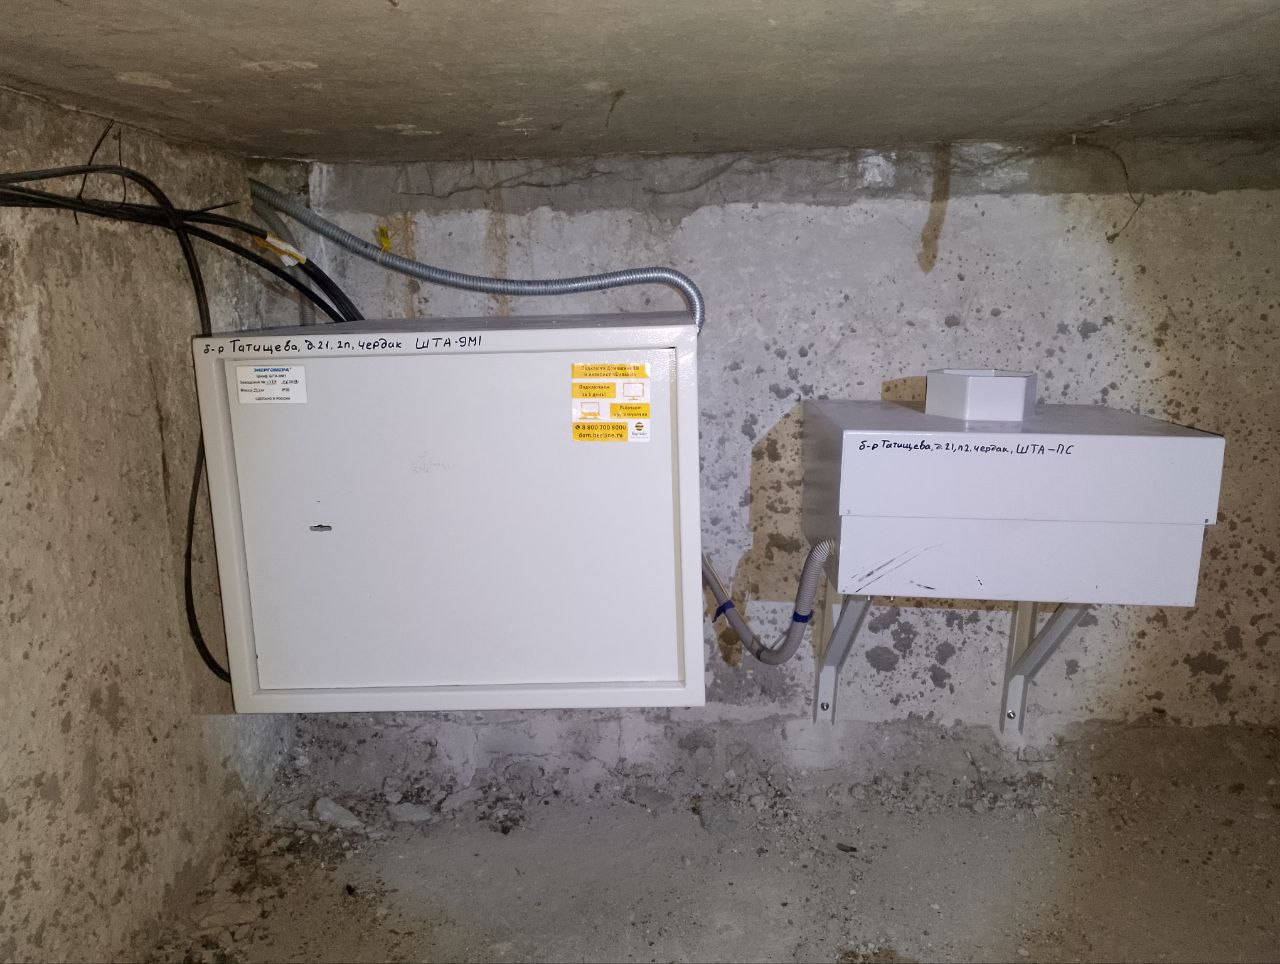shta-9m: (176, 305, 709, 723)
shta-ps: (791, 360, 1231, 611)
